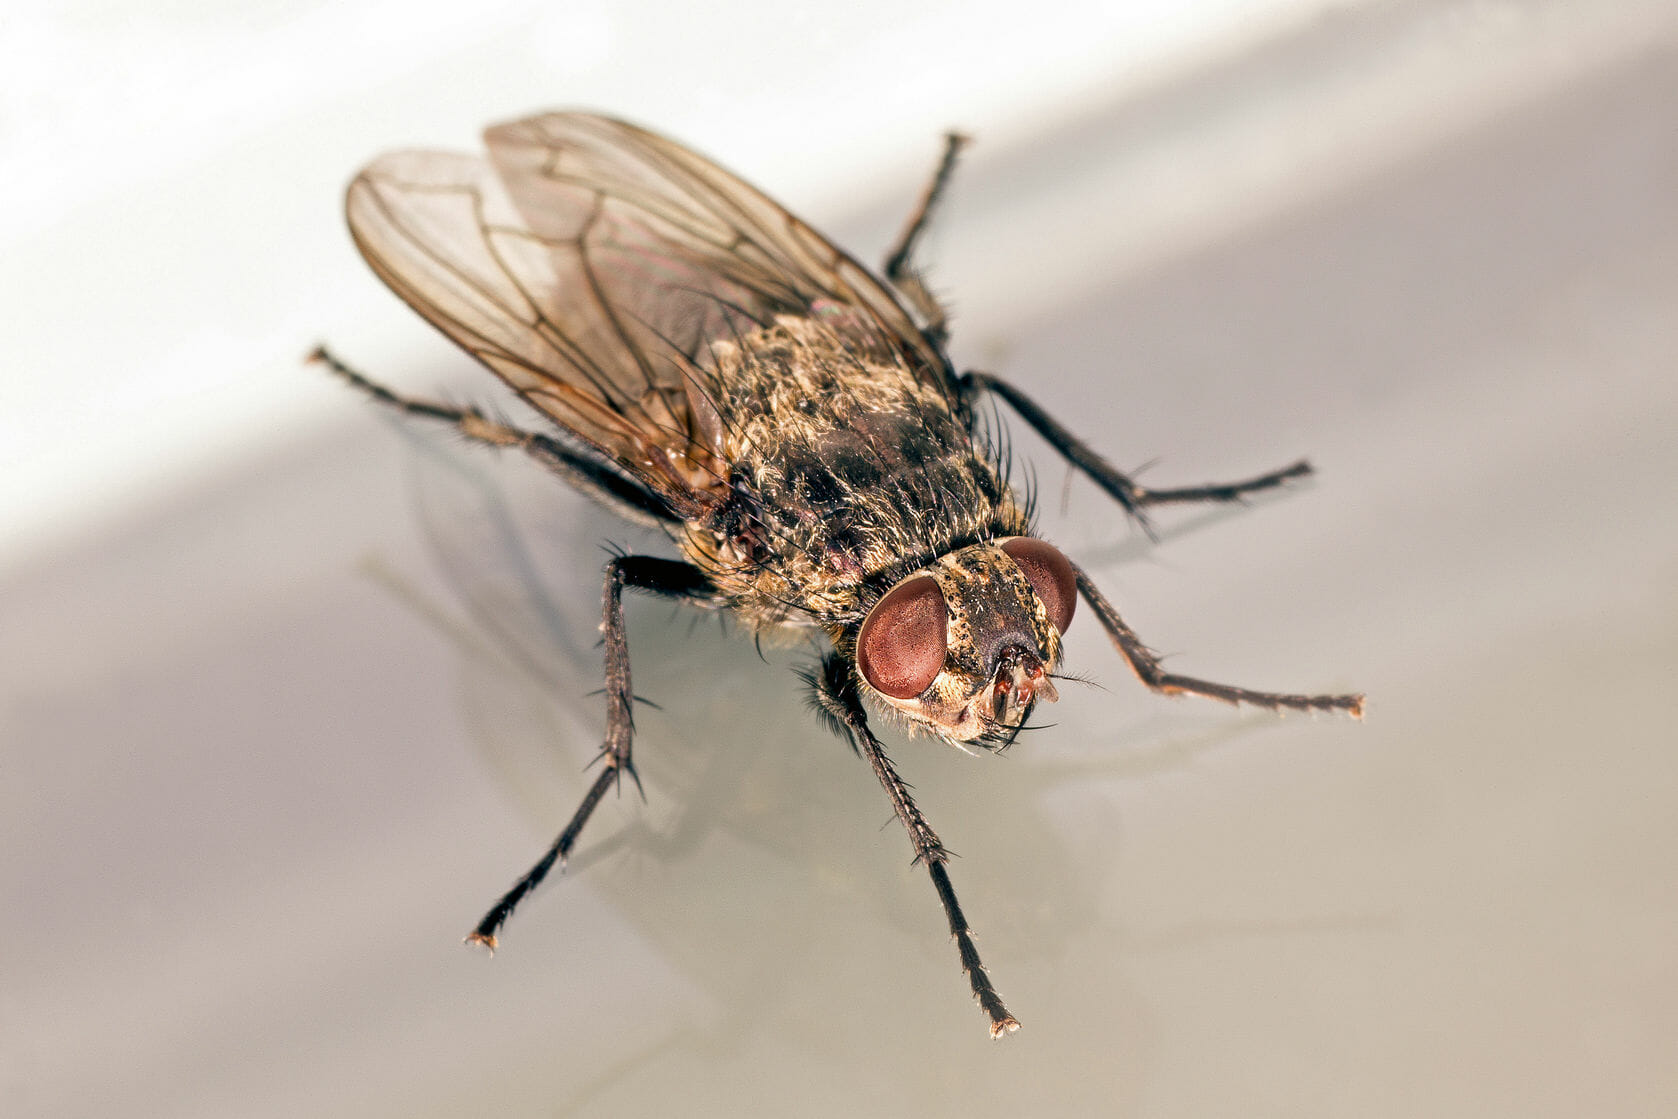fly: (270, 94, 1382, 1077)
